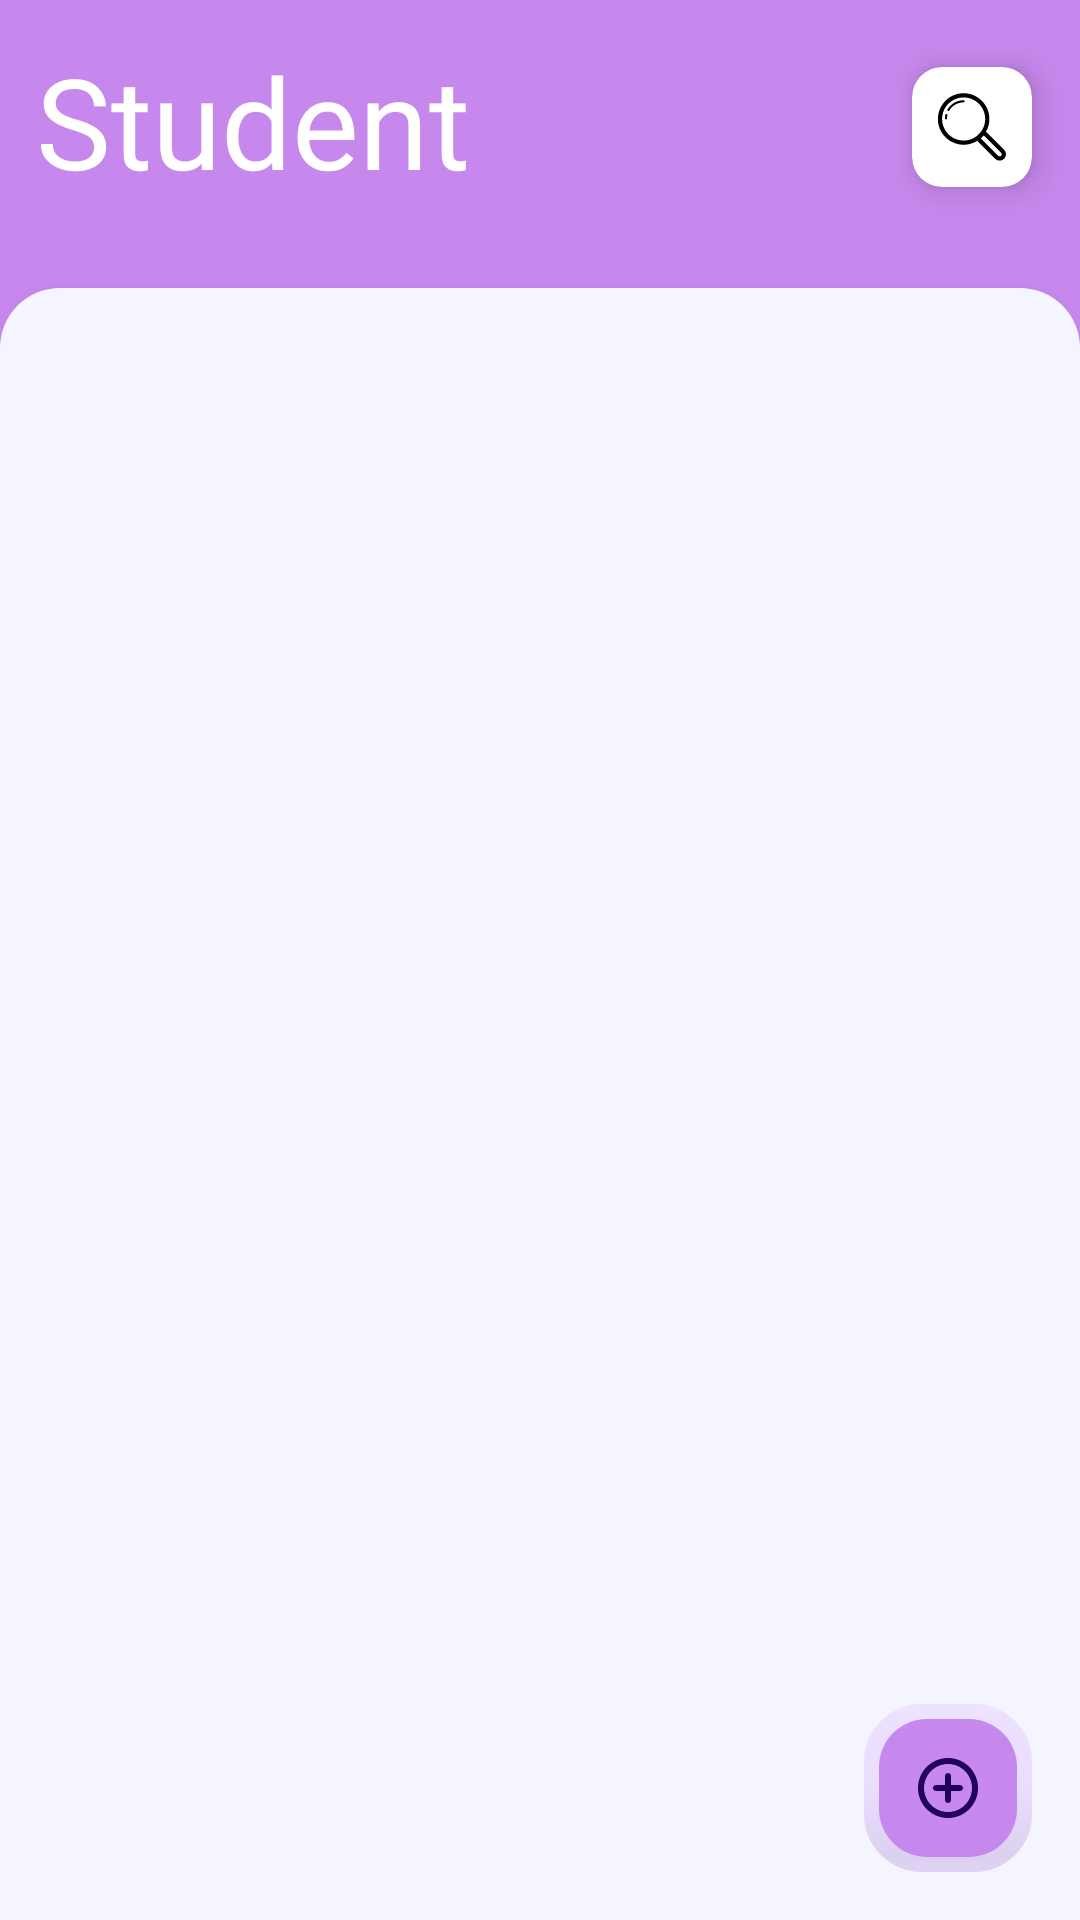

Named icons in this screenshot (1080px×1920px) and their bounding boxes, (x1, y1, x2, y2):
search: (938, 93, 1006, 161)
